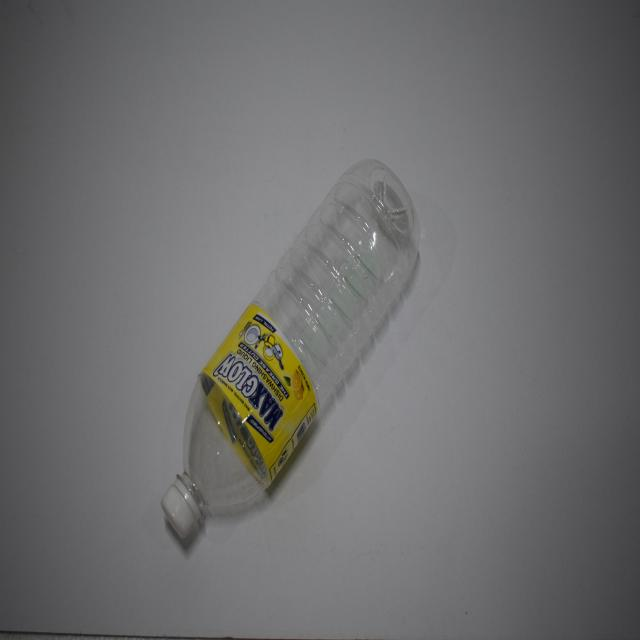bottle: (151, 151, 426, 557)
